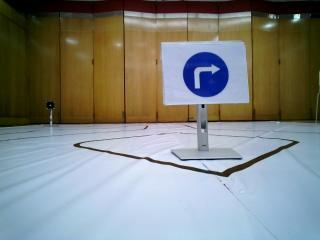right: (165, 45, 251, 101)
